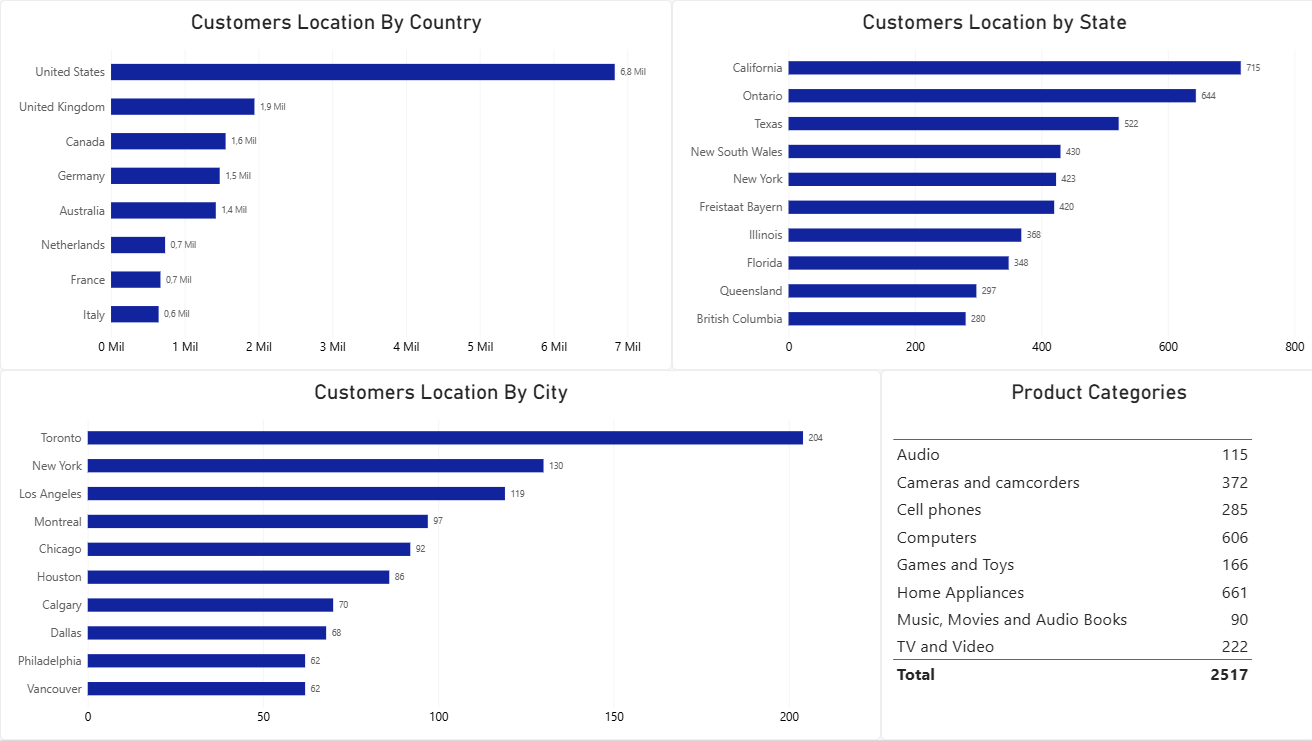

The page's visual inventory and layout, read from the dashboard file:
{"tool":"powerbi","page":{"name":"Products and Customers","canvas":[1920,1080],"ordinal":0},"visuals":[{"type":"clusteredBarChart","title":"Customers Location By Country","fields":{"Category":["Customers.Country"],"Y":["Count(Customers.CustomerKey)"]},"box":[0,0,979.9,540],"z":0},{"type":"clusteredBarChart","title":"Customers Location by State","fields":{"Category":["Customers.State"],"Y":["Count(Customers.CustomerKey)"]},"box":[979.9,0,940.1,540],"z":1000},{"type":"clusteredBarChart","title":"Customers Location By City","fields":{"Category":["Customers.City"],"Y":["Count(Customers.CustomerKey)"]},"box":[0,539.8,1285.3,539.8],"z":2000},{"type":"tableEx","title":"Product Categories","fields":{"Values":["Products.Category","Products.Subcategory"]},"box":[1285.3,539.8,634.7,539.8],"z":3000}]}

Visuals, with their boxes in screenshot pixels (x1, y1, x2, y2), scaled from the page's 1920x1080 canvas onto the 1312x741 screenshot:
"Customers Location By Country" clusteredBarChart: 0/0/670/370
"Customers Location by State" clusteredBarChart: 670/0/1311/370
"Customers Location By City" clusteredBarChart: 0/370/878/740
"Product Categories" tableEx: 878/370/1311/740
